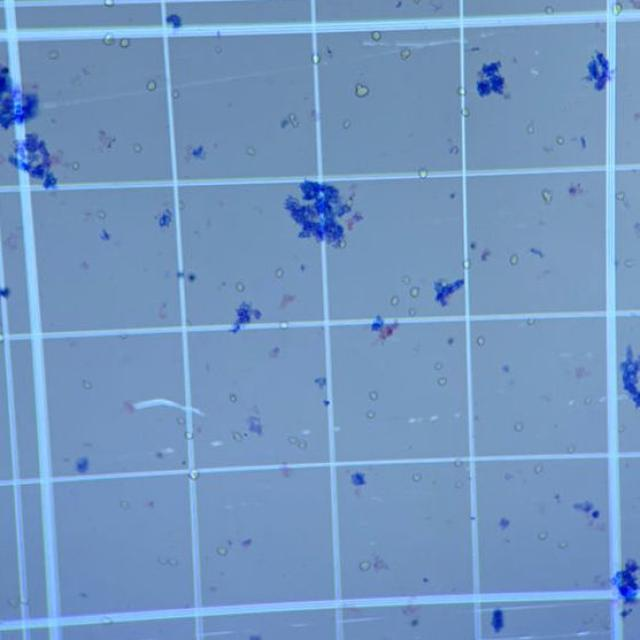Cell: (354, 83, 370, 97), (541, 189, 553, 203), (288, 114, 299, 128), (613, 2, 623, 16), (409, 286, 420, 298), (146, 80, 157, 92), (400, 48, 411, 60), (103, 33, 114, 45), (7, 598, 20, 608), (48, 49, 59, 60), (275, 267, 285, 279), (509, 254, 519, 266), (216, 546, 228, 556), (132, 143, 143, 153), (369, 390, 379, 401), (513, 422, 524, 432), (82, 379, 92, 390), (96, 210, 107, 220), (119, 500, 130, 510), (418, 168, 428, 179), (460, 107, 470, 118), (624, 258, 635, 268), (119, 38, 130, 48), (359, 561, 370, 571), (371, 31, 382, 41), (526, 122, 535, 134), (390, 296, 400, 306), (235, 282, 245, 292), (476, 336, 486, 346), (228, 393, 238, 403), (401, 275, 411, 285), (246, 146, 256, 156), (534, 464, 544, 474), (412, 472, 422, 482), (437, 376, 447, 386), (434, 361, 444, 371), (616, 192, 626, 202), (189, 470, 199, 480), (102, 616, 112, 626), (537, 532, 548, 541), (232, 432, 243, 441), (556, 136, 565, 146), (366, 410, 376, 419), (342, 119, 351, 129), (71, 161, 80, 171), (584, 396, 594, 405), (558, 541, 568, 550), (454, 480, 464, 489), (312, 54, 321, 64), (176, 416, 186, 425), (288, 436, 298, 445), (298, 440, 308, 449), (168, 558, 178, 567), (457, 87, 466, 96), (567, 445, 576, 454), (526, 318, 536, 326), (172, 90, 180, 100), (544, 6, 554, 14), (103, 0, 114, 7), (462, 260, 470, 269), (408, 308, 417, 316), (454, 460, 463, 468), (214, 45, 222, 54), (338, 240, 347, 248), (618, 425, 626, 433), (184, 432, 193, 439), (280, 322, 288, 329)
